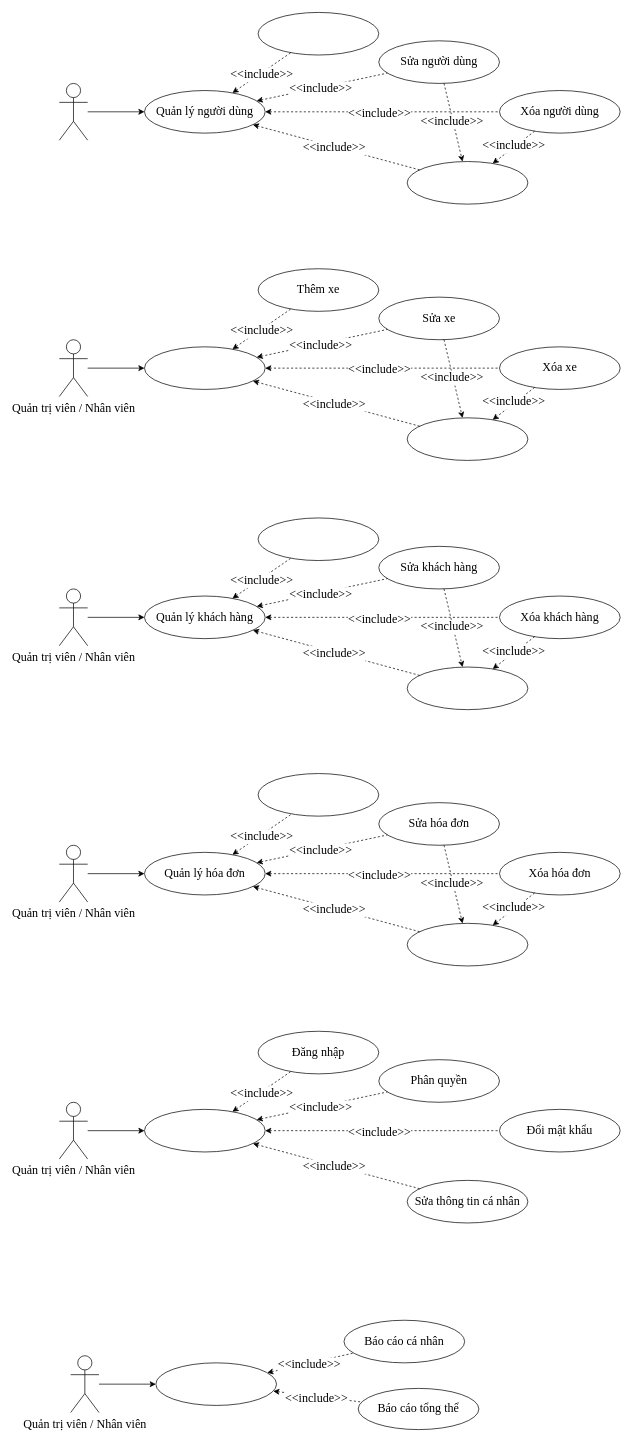
This 633x1446 diagram has some shape labels left out. The centre of each missing label's shape, as x and y in pixels:
"Báo cáo & Thống kê" goes at [216,1383].
"Quản lý xe" goes at [204,367].
"Quản trị viên" goes at [73,111].
"Thêm hóa đơn" goes at [318,794].
"Thêm khách hàng" goes at [318,539].
"Thêm người dùng" goes at [318,33].
"Tìm kiếm hóa đơn" goes at [467,944].
"Tìm kiếm khách hàng" goes at [467,688].
"Tìm kiếm người dùng" goes at [467,182].
"Tìm kiếm xe" goes at [467,438].
"Đăng nhập & Phân quyền" goes at [204,1130].
